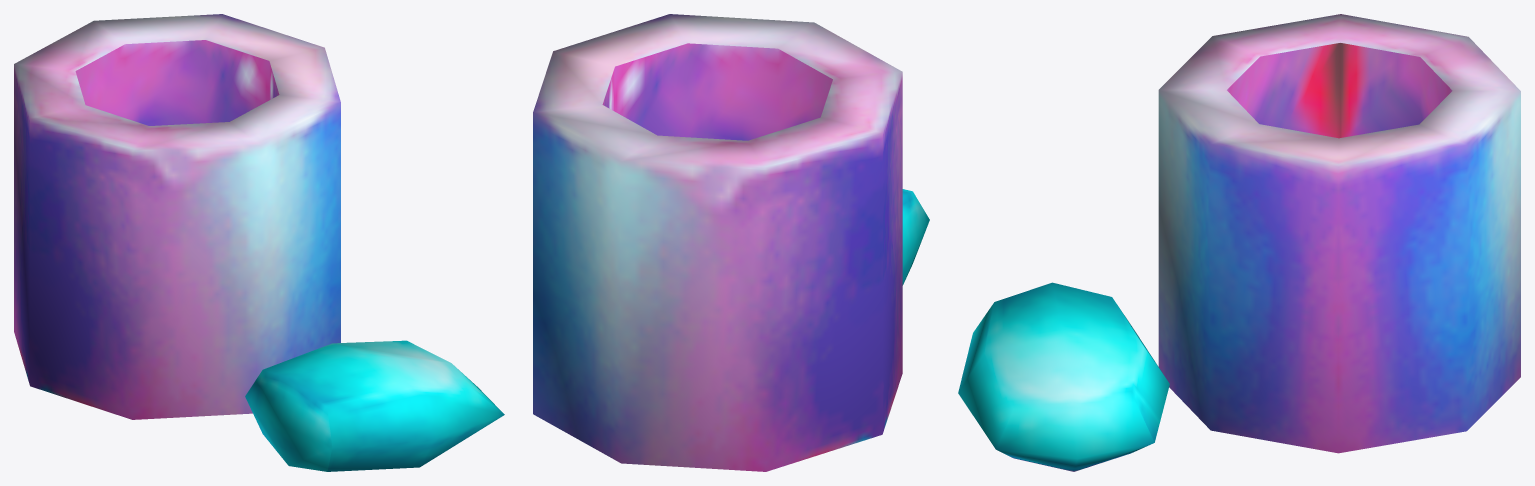
Rendered from Sea_guangzi02.FBX.
3 views of the same model, side by side, from view 1: azimuth 30°, elevation 25°; view 2: azimuth 150°, elevation 25°; view 3: azimuth 270°, elevation 25° (orthographic). The views are drawn at different scales.
Parts seen in each view (by area): view 1: 对象03; view 2: 对象03; view 3: 对象03.
Boxes of the visible parts, x1,y1,x2,y2 form: 对象03: (14, 14, 504, 471); 对象03: (533, 14, 929, 471); 对象03: (958, 14, 1520, 471).
Bounding box in the file's own units: 0.133 × 0.1111 × 0.1868.
